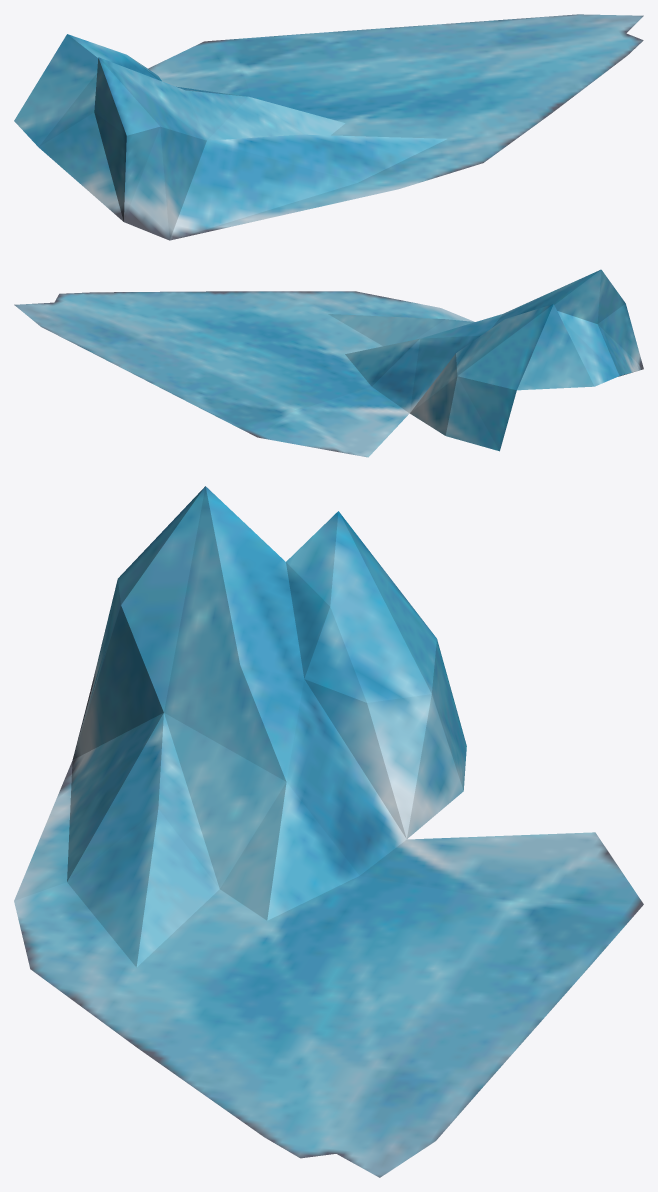
File: 5013_Item_bing_5.FBX
The picture shows the model from 3 angles, top to bottom: view 1: azimuth 30°, elevation 25°; view 2: azimuth 150°, elevation 25°; view 3: azimuth 270°, elevation 25°; orthographic projection. The views are drawn at different scales.
Visible parts, largest first — view 1: 5013_Item_bing_5; view 2: 5013_Item_bing_5; view 3: 5013_Item_bing_5.
Part boxes in pixels (x1=…): 5013_Item_bing_5: x1=14, y1=14, x2=643, y2=240; 5013_Item_bing_5: x1=14, y1=269, x2=643, y2=457; 5013_Item_bing_5: x1=14, y1=486, x2=643, y2=1177.
Size of the model in its own units: 313 by 74.6 by 169.
